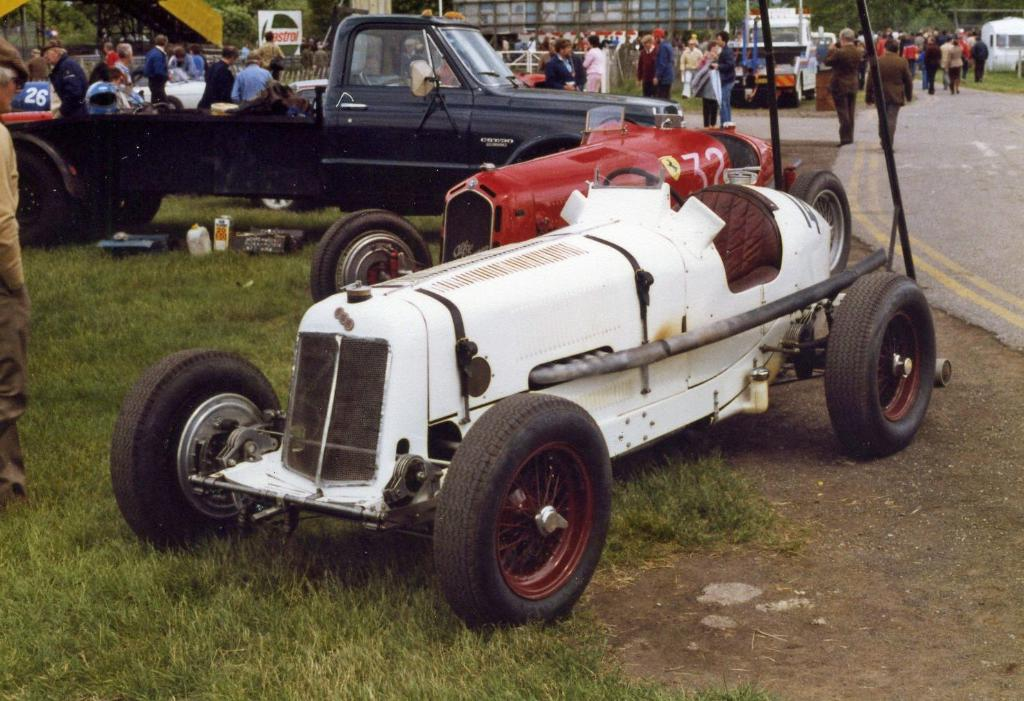Car: (101, 157, 945, 633), (0, 12, 677, 246), (308, 103, 854, 306), (722, 0, 822, 105), (974, 13, 1023, 79), (806, 16, 840, 42)
